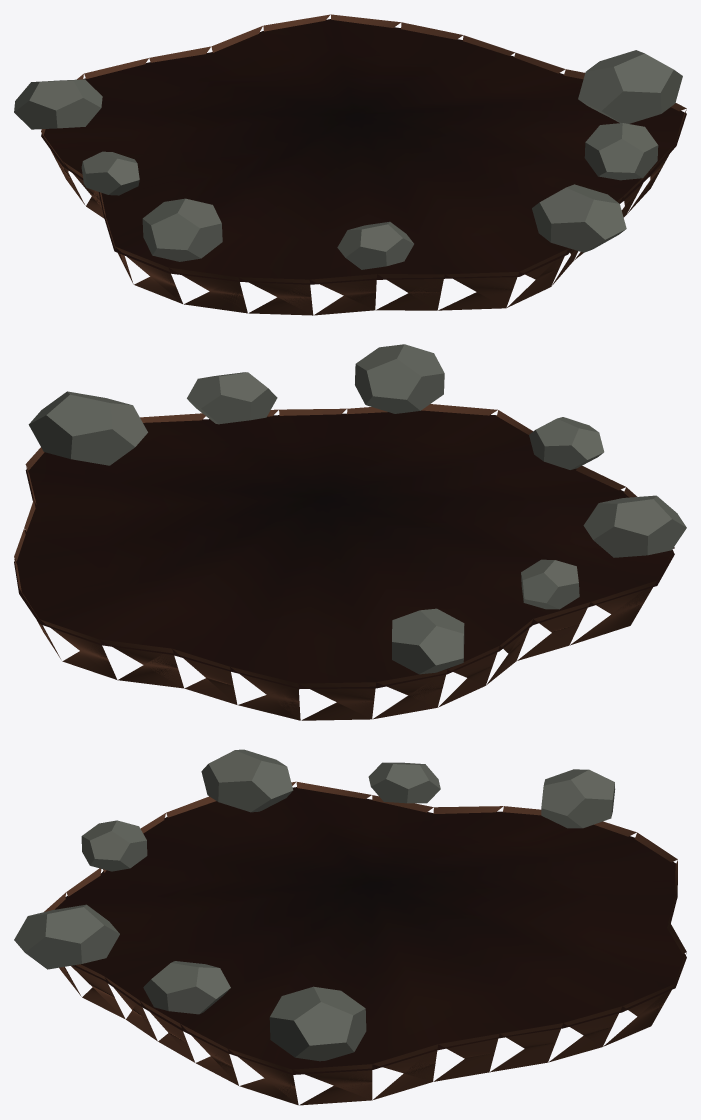
Rendered from asset.glb.
The picture shows the model from 3 angles, top to bottom: view 1: azimuth 30°, elevation 25°; view 2: azimuth 150°, elevation 25°; view 3: azimuth 270°, elevation 25°; orthographic projection. The views are drawn at different scales.
Parts seen in each view (by area): view 1: MuddyPuddleSurface, MudPuddle, MuddyOuterRim; view 2: MuddyPuddleSurface, MudPuddle, MuddyOuterRim; view 3: MuddyPuddleSurface, MudPuddle, MuddyOuterRim.
Boxes of the visible parts, bbox=[...] form: MuddyPuddleSurface: bbox=[41, 19, 686, 284]; MudPuddle: bbox=[14, 50, 682, 269]; MuddyOuterRim: bbox=[41, 14, 686, 315]; MuddyPuddleSurface: bbox=[14, 410, 674, 689]; MudPuddle: bbox=[28, 344, 686, 674]; MuddyOuterRim: bbox=[14, 404, 674, 720]; MuddyPuddleSurface: bbox=[55, 787, 686, 1074]; MudPuddle: bbox=[14, 749, 615, 1061]; MuddyOuterRim: bbox=[44, 781, 686, 1105].
Size of the model in its own units: 2.54 by 0.4138 by 2.49.
